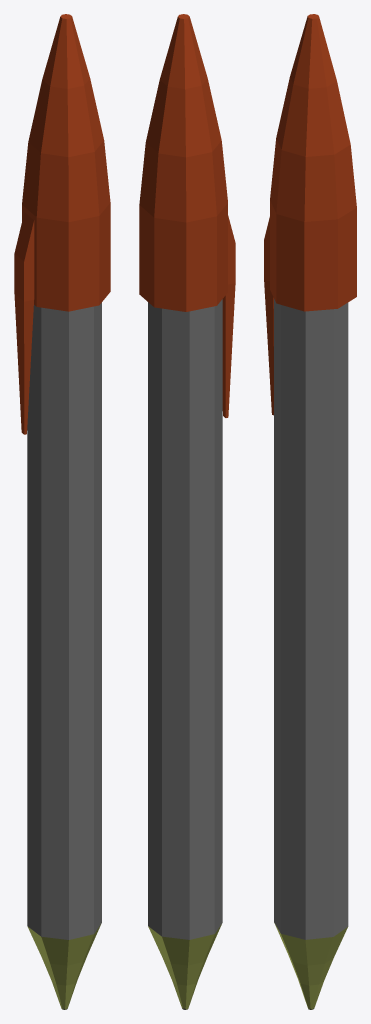
File: boli.fbx
3 views of the same model, side by side, from view 1: azimuth 30°, elevation 25°; view 2: azimuth 210°, elevation 25°; view 3: azimuth 330°, elevation 25° (orthographic).
Parts seen in each view (by area): view 1: boli; view 2: boli; view 3: boli.
Boxes of the visible parts, x1,y1,x2,y2 form: boli: [14, 14, 110, 1009]; boli: [139, 14, 235, 1009]; boli: [264, 14, 356, 1009].
Size of the model in its own units: 1.76 by 20.33 by 1.57.
